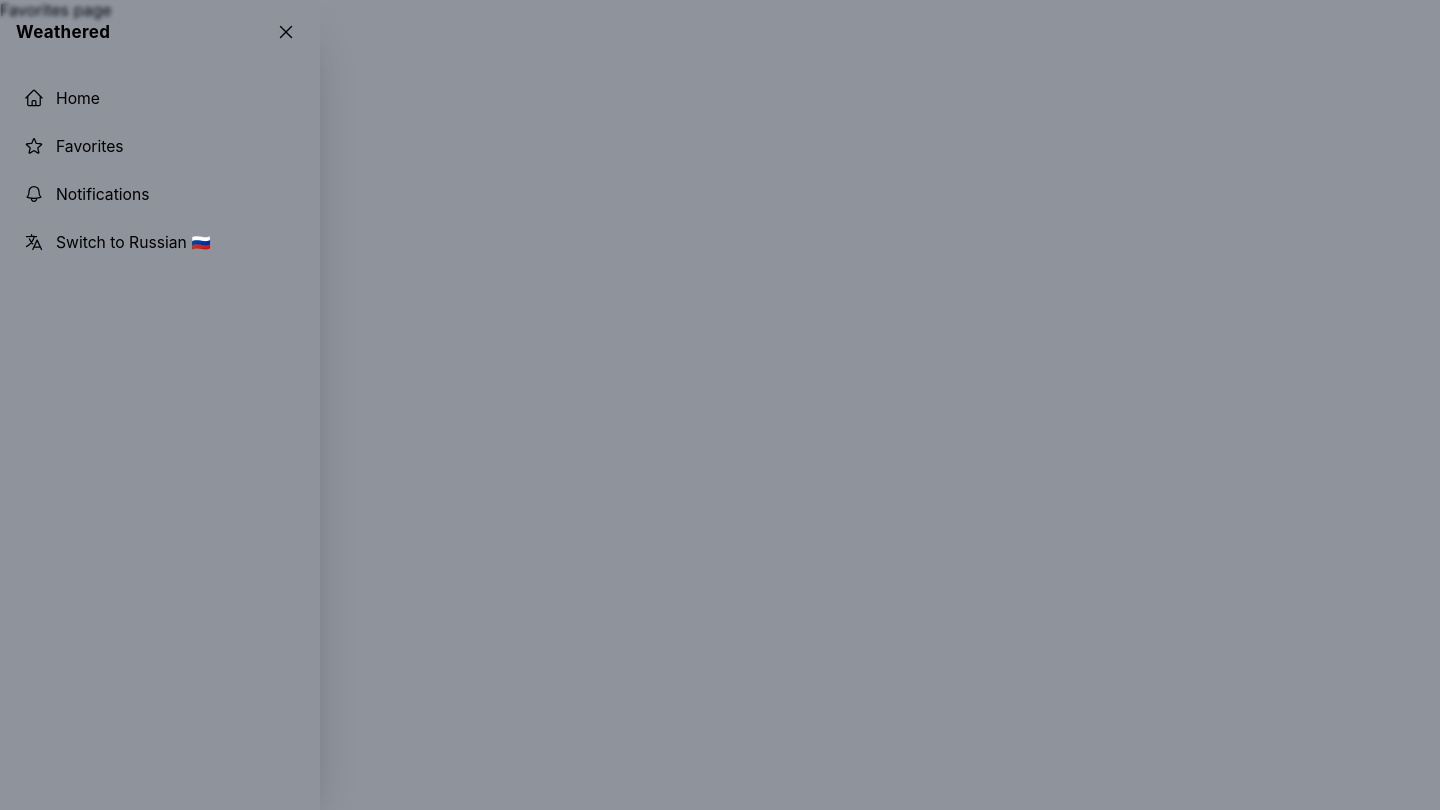
Test: Sidebar › navigates home from the favorites route
Click the button "Home". click: (78, 98)
box: [12,76,308,120]
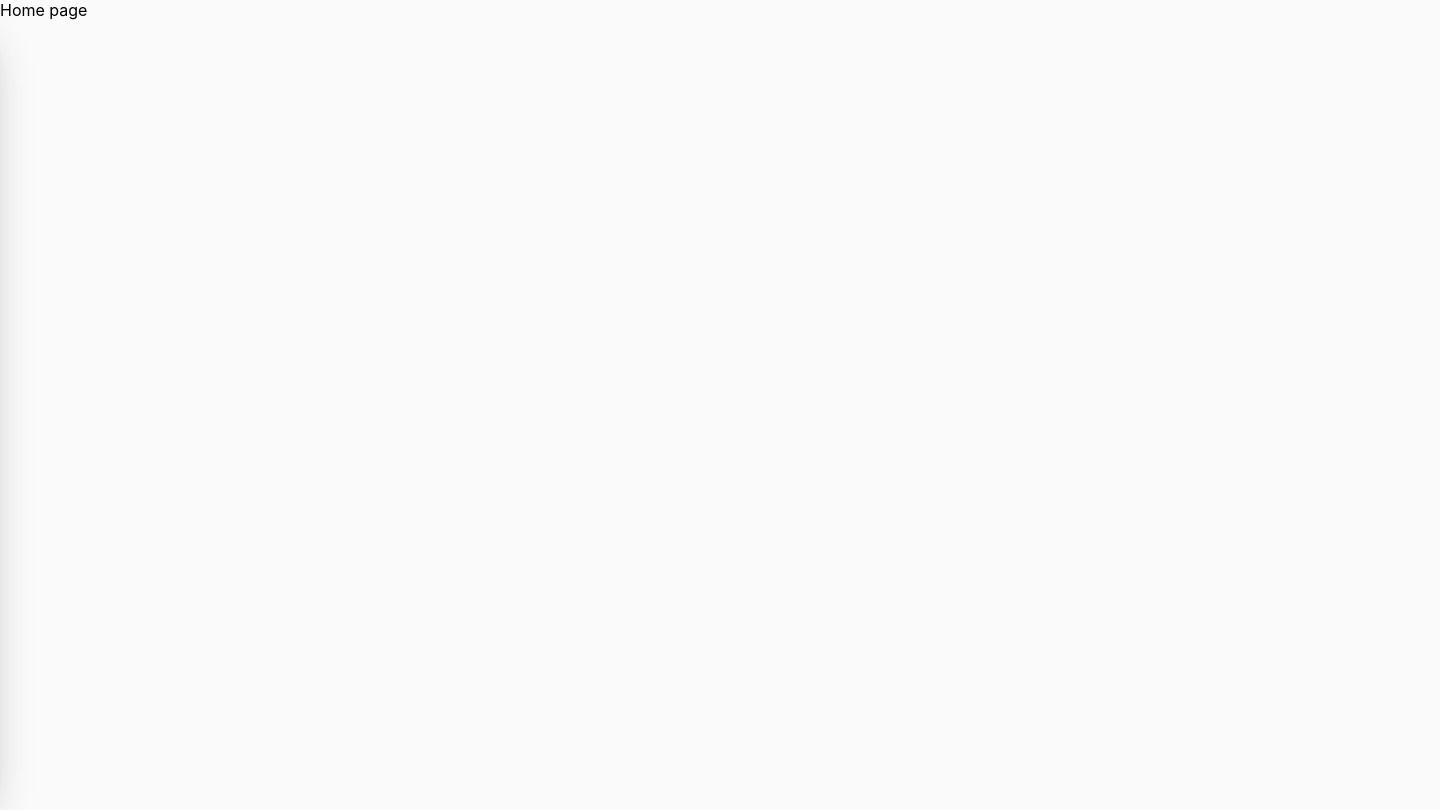
Now the text "Home page" is shown, box [0,0,87,20]
